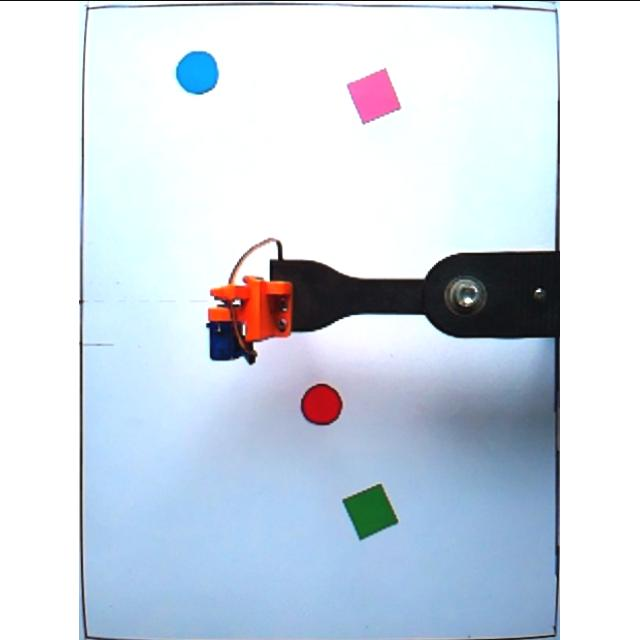blueCircle: (176, 49, 222, 95)
greenSquare: (341, 482, 401, 540)
pinkSquare: (348, 66, 402, 124)
redCircle: (301, 382, 344, 423)
